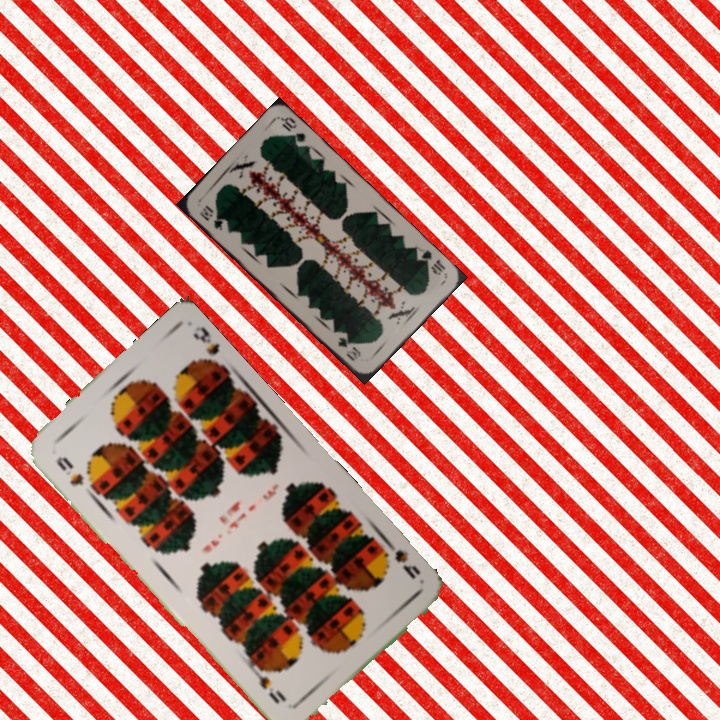G10: (412, 244, 448, 278), (196, 201, 226, 233)
S9: (375, 536, 423, 582), (52, 452, 86, 489)
